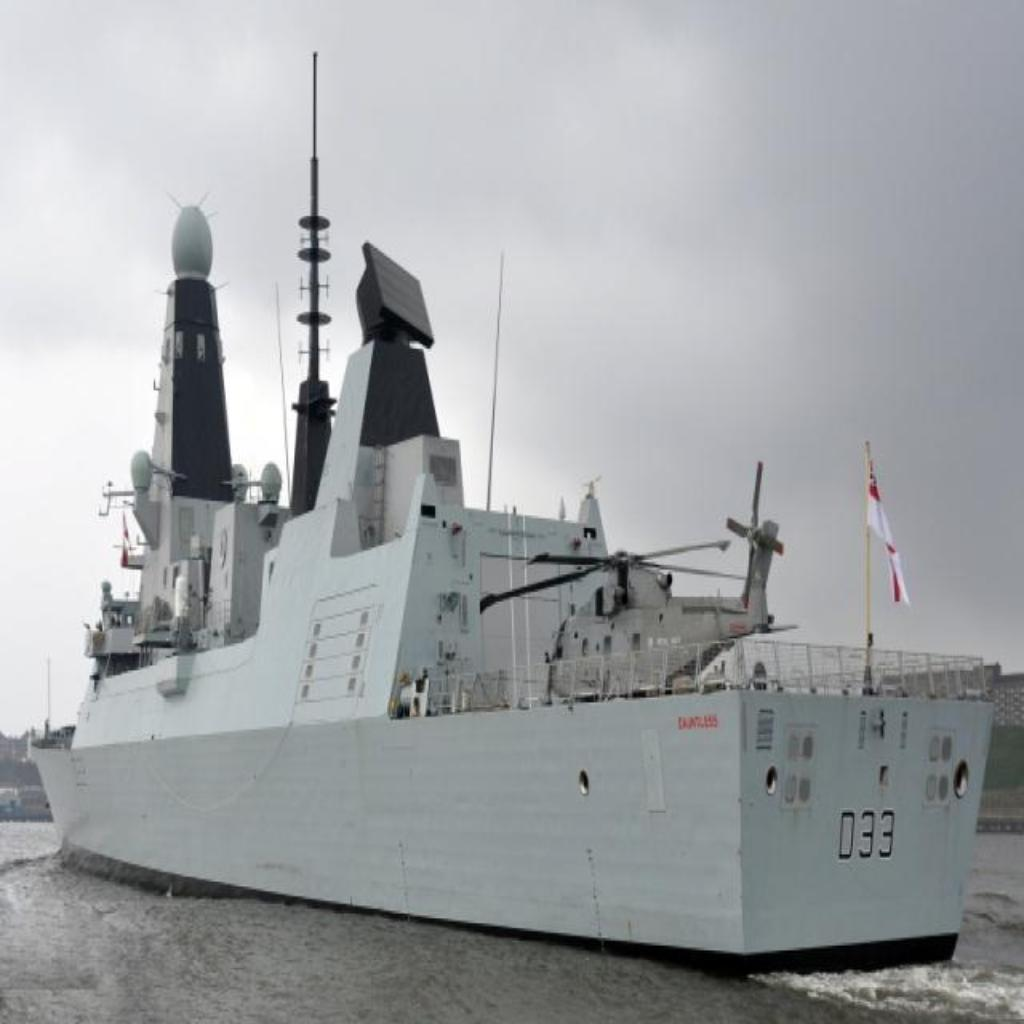Warship: (21, 140, 1017, 994)
